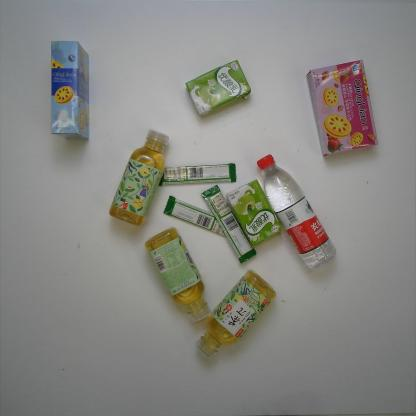Chocolate: (200, 184, 257, 272), (162, 194, 240, 241), (154, 163, 237, 187)
Dessert: (306, 60, 379, 156), (50, 40, 91, 141)
Drink: (254, 153, 338, 271), (195, 268, 278, 360), (144, 226, 211, 324), (108, 128, 170, 228)
Milk: (185, 58, 252, 118), (225, 180, 283, 246)
